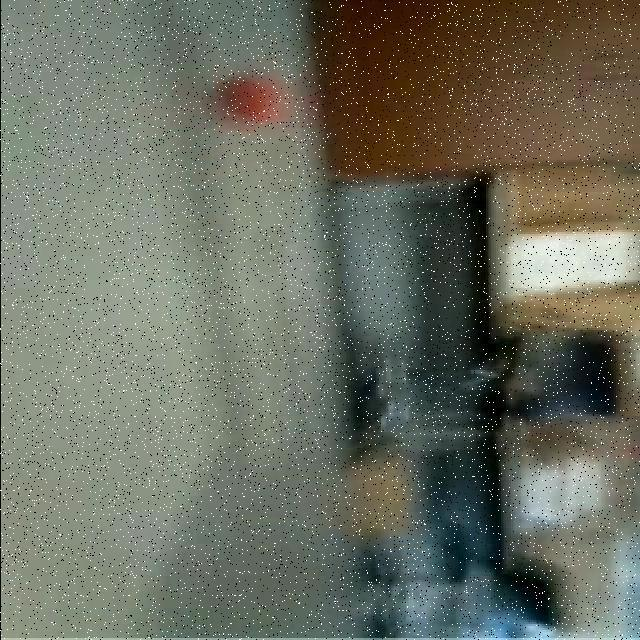ping-pong-ball: (207, 73, 284, 135)
